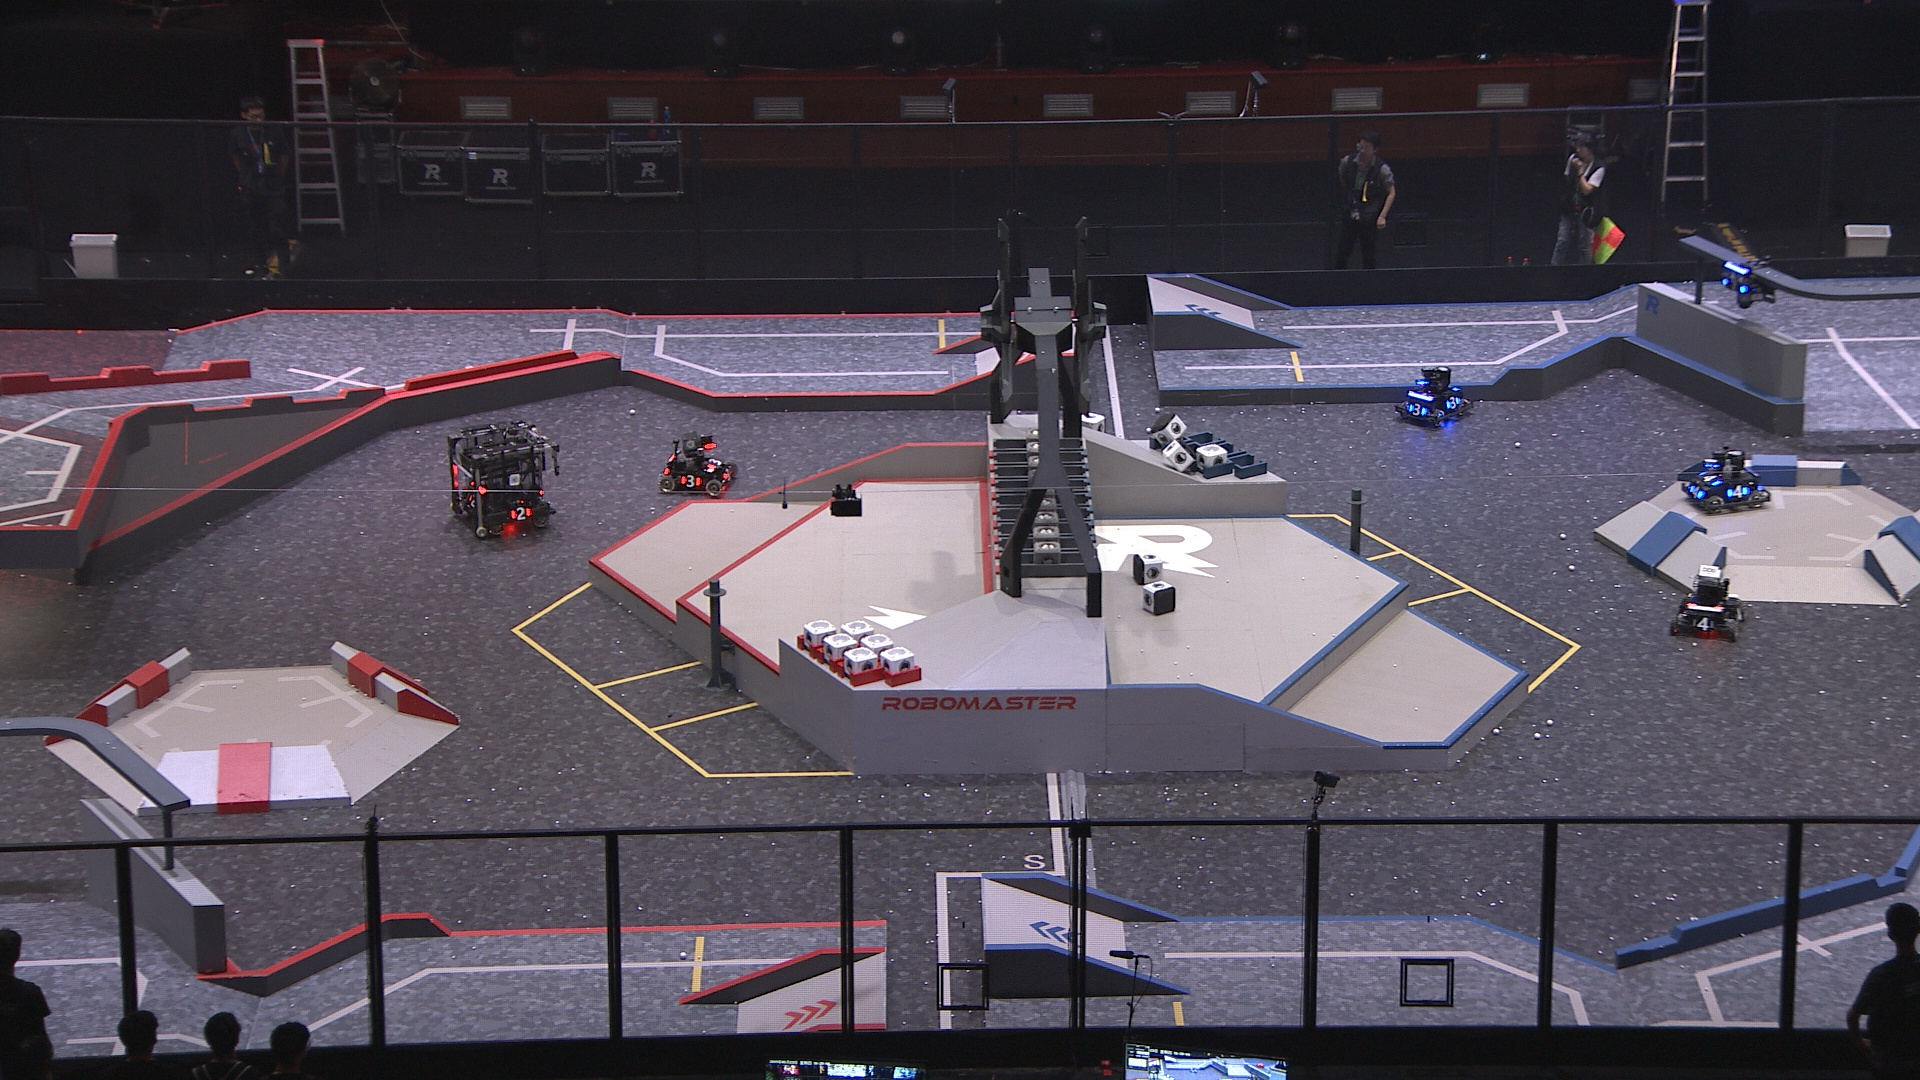armor: (1726, 485, 1753, 501), (1692, 617, 1717, 633), (1720, 276, 1745, 291), (680, 472, 700, 491), (508, 505, 533, 520), (462, 491, 479, 509), (1702, 469, 1724, 484), (1406, 401, 1427, 415), (1733, 603, 1743, 626), (1443, 396, 1460, 410), (705, 455, 721, 469), (1689, 485, 1702, 500), (723, 465, 732, 485)
car: (442, 422, 553, 535), (1665, 564, 1749, 644), (1680, 444, 1768, 516), (659, 433, 741, 500), (1395, 365, 1468, 429)
watcher: (1717, 252, 1787, 306)
